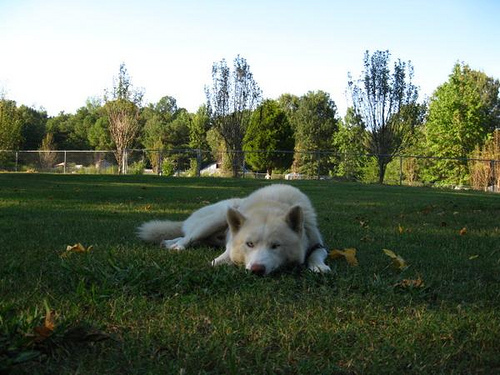dog: (139, 185, 332, 275)
